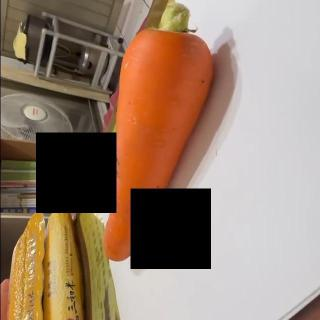carrot: (100, 2, 216, 262)
